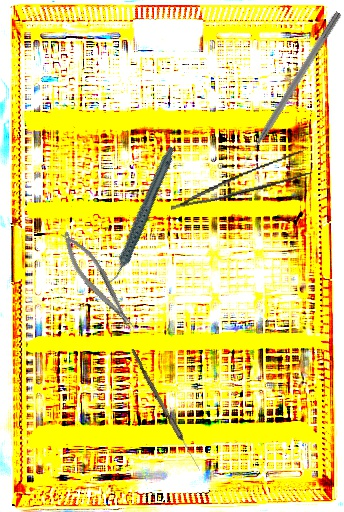Handpiece: (80, 145, 201, 286)
Needle Holder: (55, 225, 140, 339)
Pusher: (236, 9, 343, 171)
Surgical Spoon: (128, 348, 203, 472)
Tissue Forceps: (165, 149, 314, 211)
